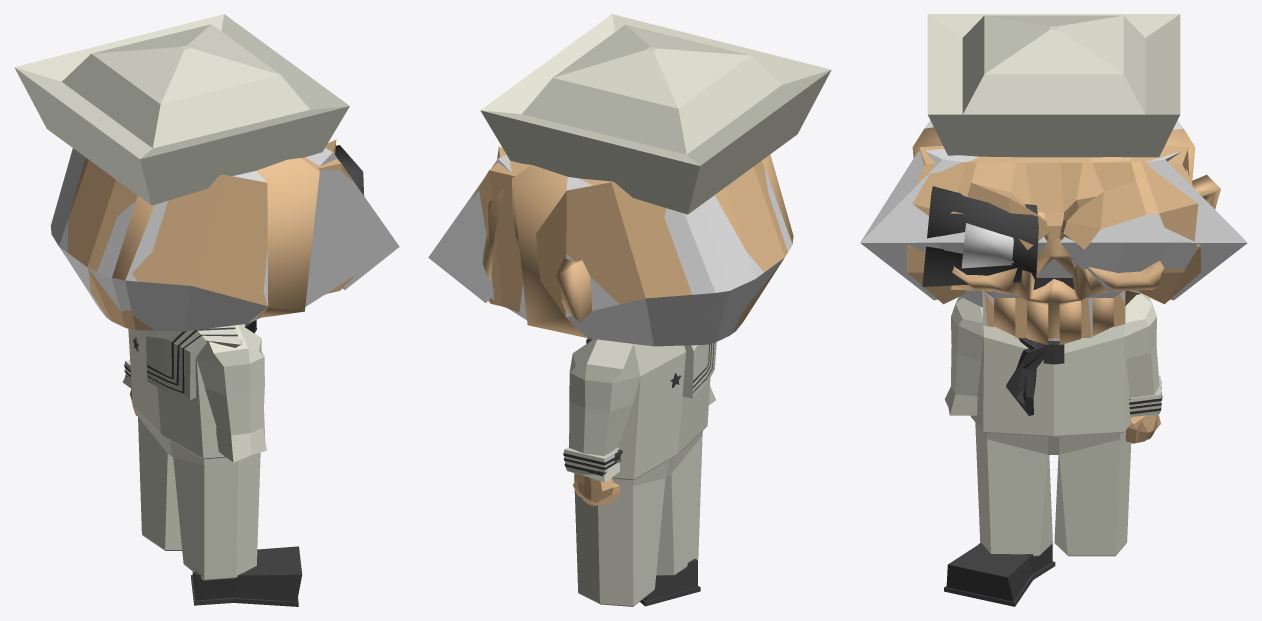
The model's file is Skull-transformed.glb.
The picture shows the model from 3 angles, left to right: view 1: azimuth 30°, elevation 25°; view 2: azimuth 150°, elevation 25°; view 3: azimuth 270°, elevation 25°; orthographic projection. The views are drawn at different scales.
Visible parts, largest first — view 1: Cube, Cube.001, face, Cube.002; view 2: Cube, Cube.001, face, Cube.002; view 3: Cube, Cube.001, face, Cube.002, eyes.001.
Part boxes in pixels (x1,y1,x2,y2): Cube: (14,14,349,580); Cube.001: (67,140,357,416); face: (50,148,399,331); Cube.002: (124,145,364,606); Cube: (480,14,831,606); Cube.001: (471,146,793,505); face: (428,154,793,346); Cube.002: (563,338,714,606); Cube: (927,14,1180,556); Cube.001: (907,127,1220,443); face: (860,120,1247,340); Cube.002: (922,186,1162,606); eyes.001: (961,223,1013,268).
Bounding box in the file's own units: 1.92 × 3.78 × 2.48.
